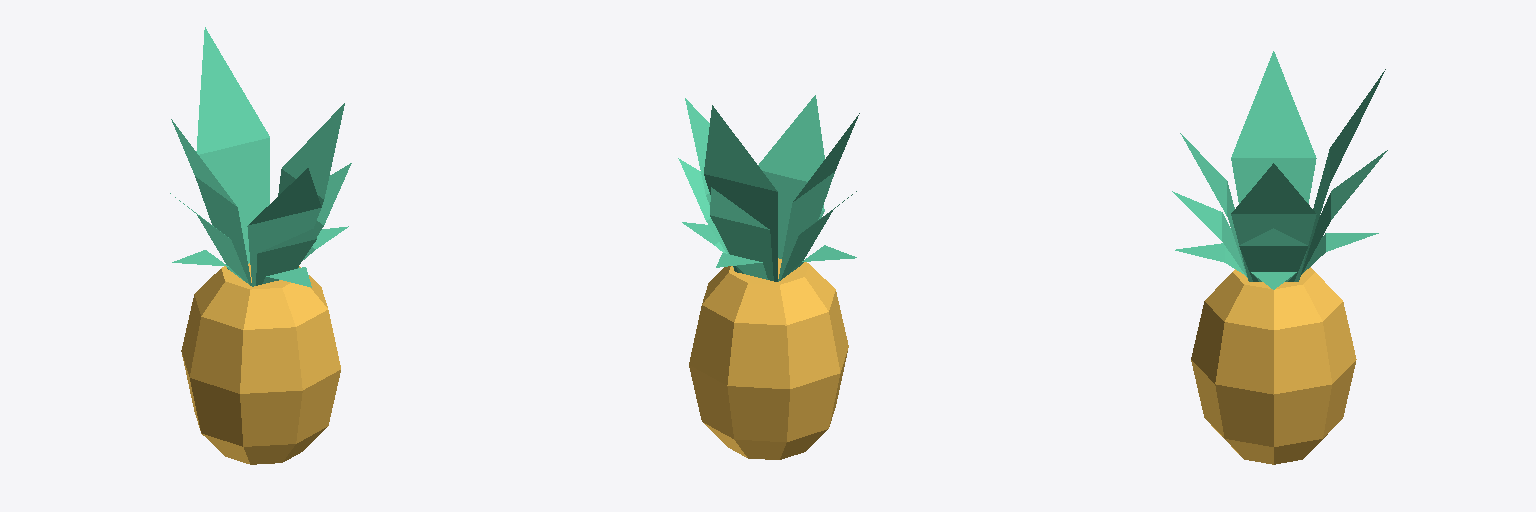
The model's file is pineapple.obj.
The picture shows the model from 3 angles: view 1: azimuth 30°, elevation 25°; view 2: azimuth 150°, elevation 25°; view 3: azimuth 270°, elevation 25°; orthographic projection.
Visible parts, largest first — view 1: pineapple; view 2: pineapple; view 3: pineapple.
Boxes of the visible parts, box(x1,y1,x2,y2) form: pineapple: box(170, 27, 351, 464); pineapple: box(678, 95, 859, 459); pineapple: box(1172, 51, 1387, 464).
Bounding box in the file's own units: 0.2412 × 0.4716 × 0.2448.